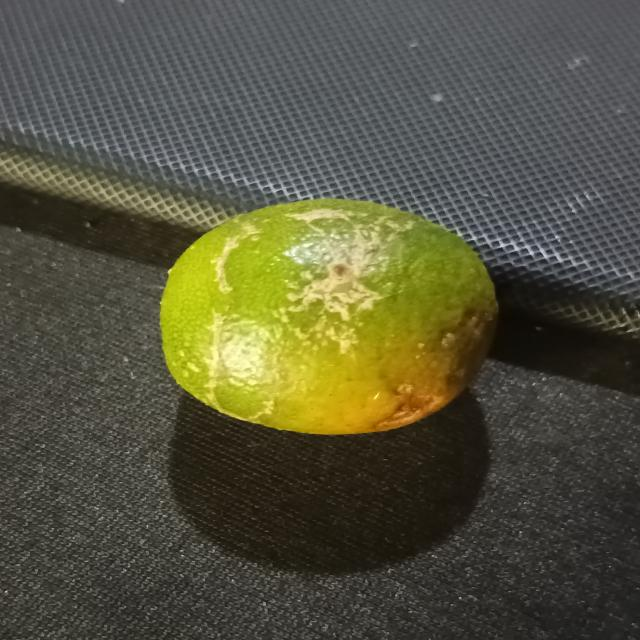thrips: (153, 194, 500, 436)
